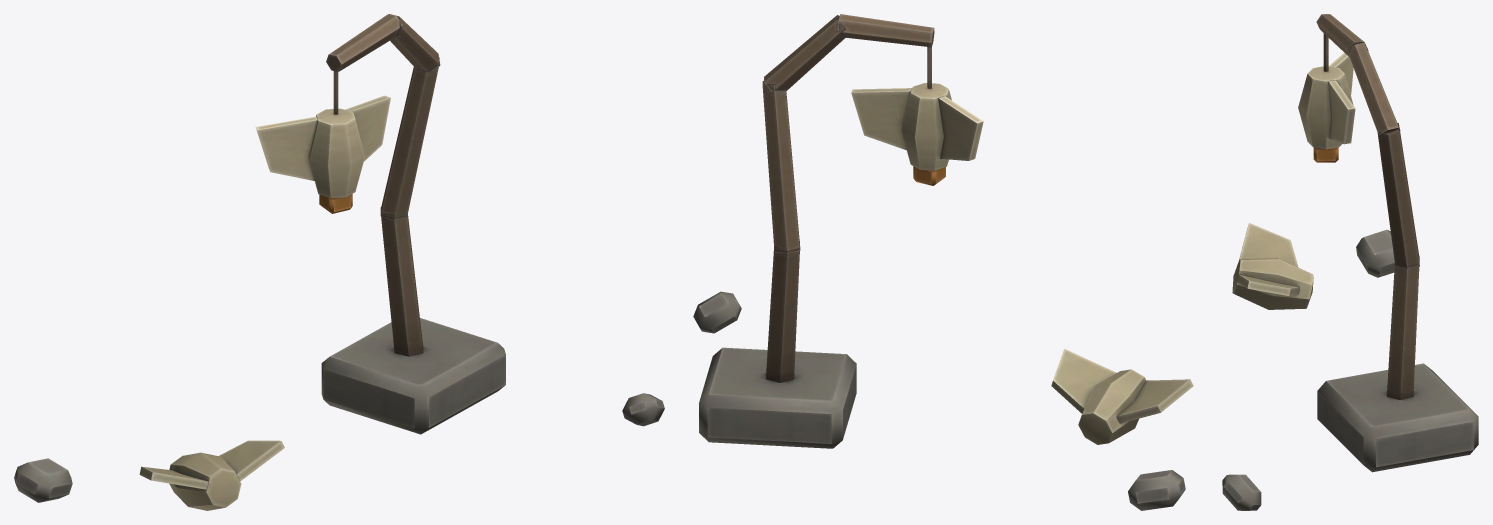
File: camp_gloamoths.glb
3 views of the same model, side by side, from view 1: azimuth 30°, elevation 25°; view 2: azimuth 150°, elevation 25°; view 3: azimuth 270°, elevation 25° (orthographic). The views are drawn at different scales.
Parts seen in each view (by area): view 1: camp_gloamoths_body; view 2: camp_gloamoths_body; view 3: camp_gloamoths_body.
Part boxes in pixels (x1,y1,x2,y2): camp_gloamoths_body: (14,14,664,510); camp_gloamoths_body: (693,14,1193,510); camp_gloamoths_body: (1222,14,1478,510).
Size of the model in its own units: 1.96 by 1.36 by 0.8205.
1 material, 1 textured.
